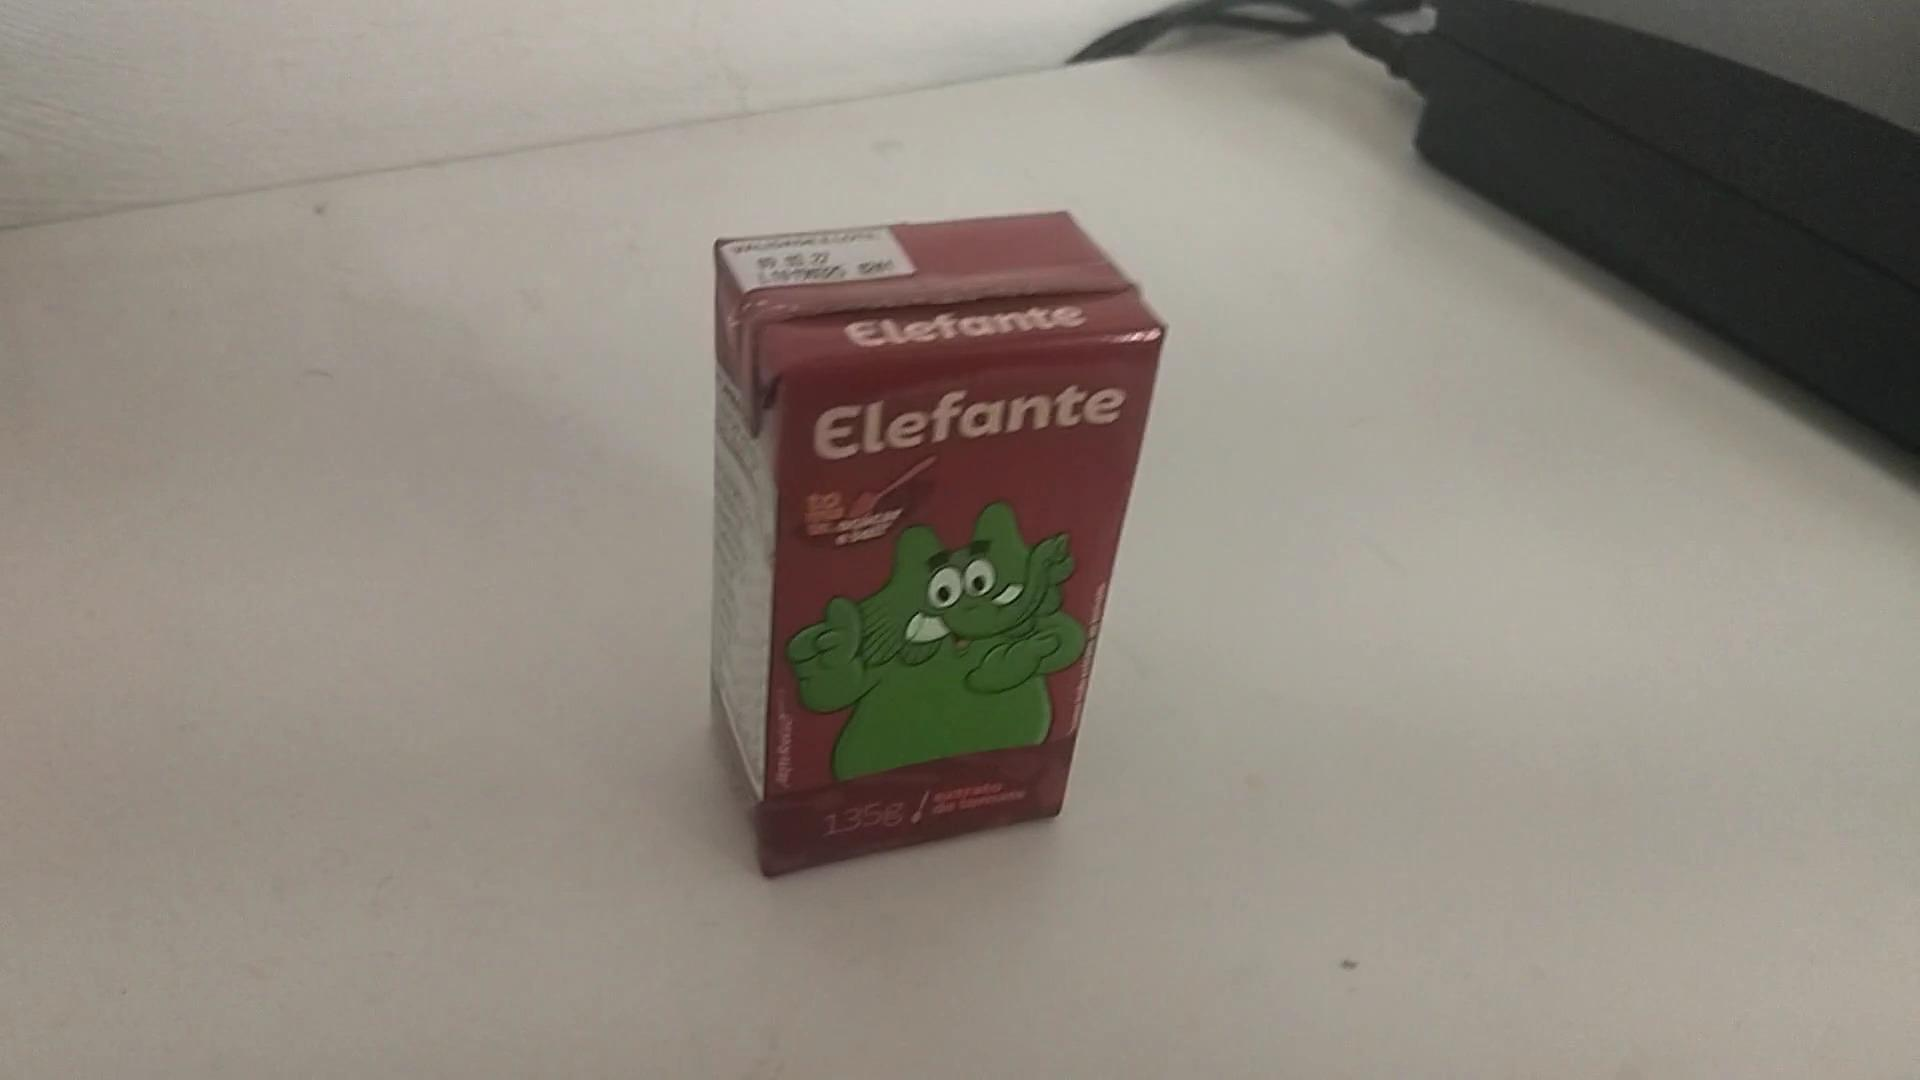tomate: (708, 210, 1167, 882)
